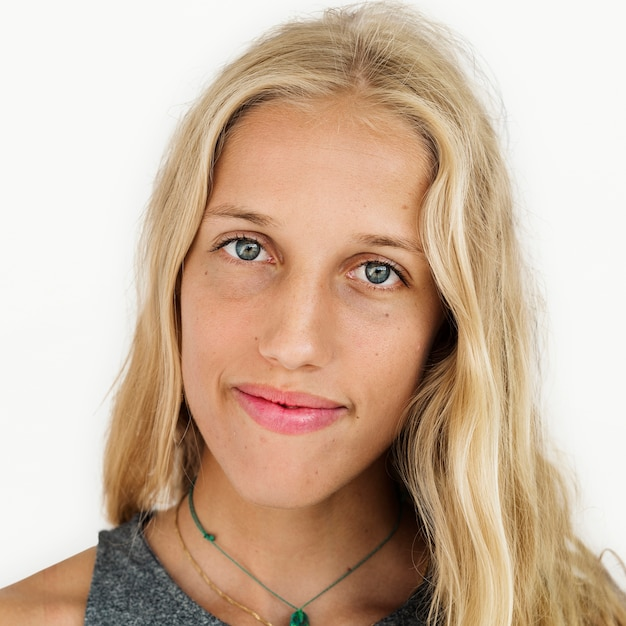young: (112, 25, 518, 491)
